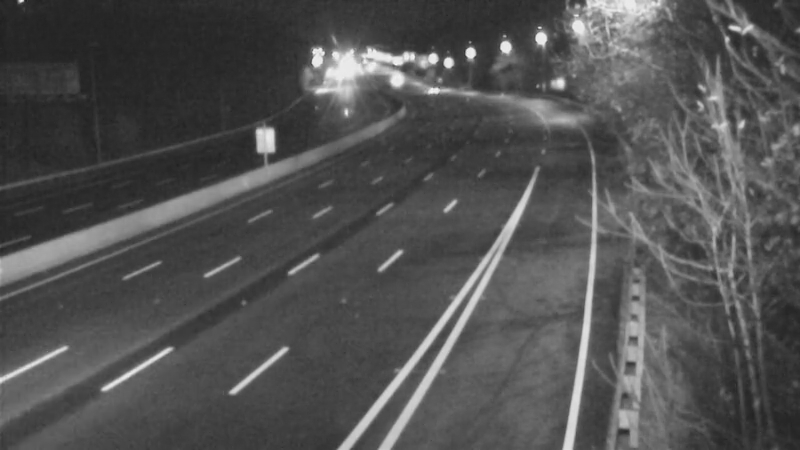vehicle: (365, 55, 415, 105), (405, 64, 455, 114)
